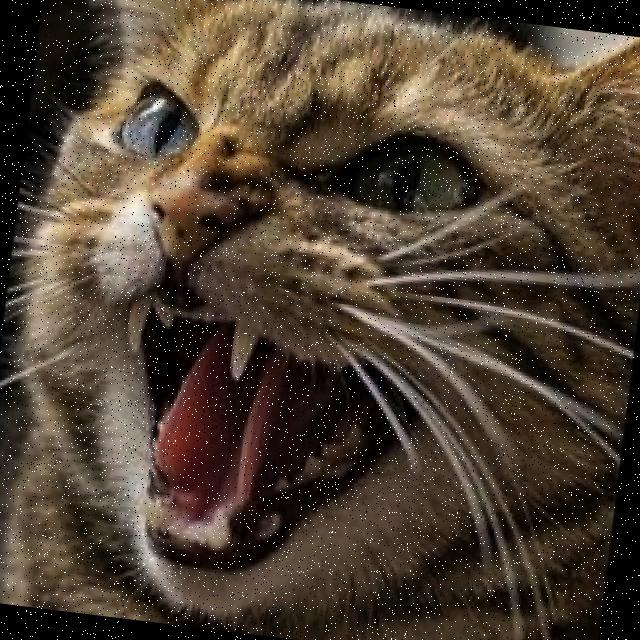Angry: (17, 53, 569, 632)
